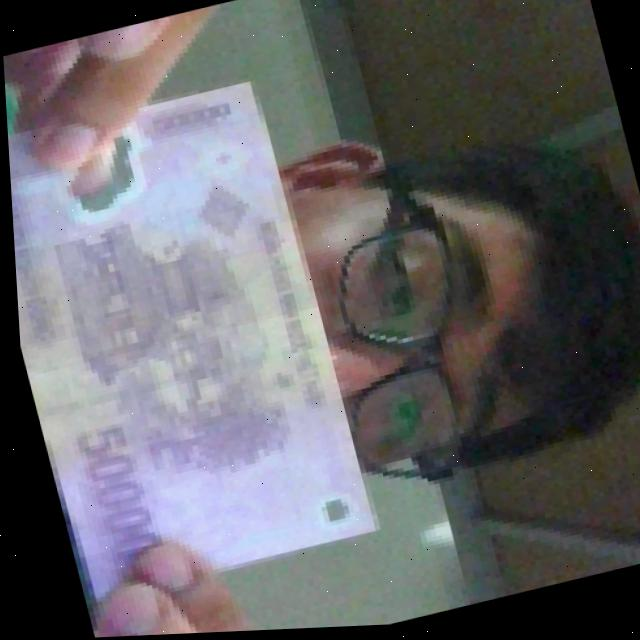20 000 VND: (4, 64, 384, 614)
